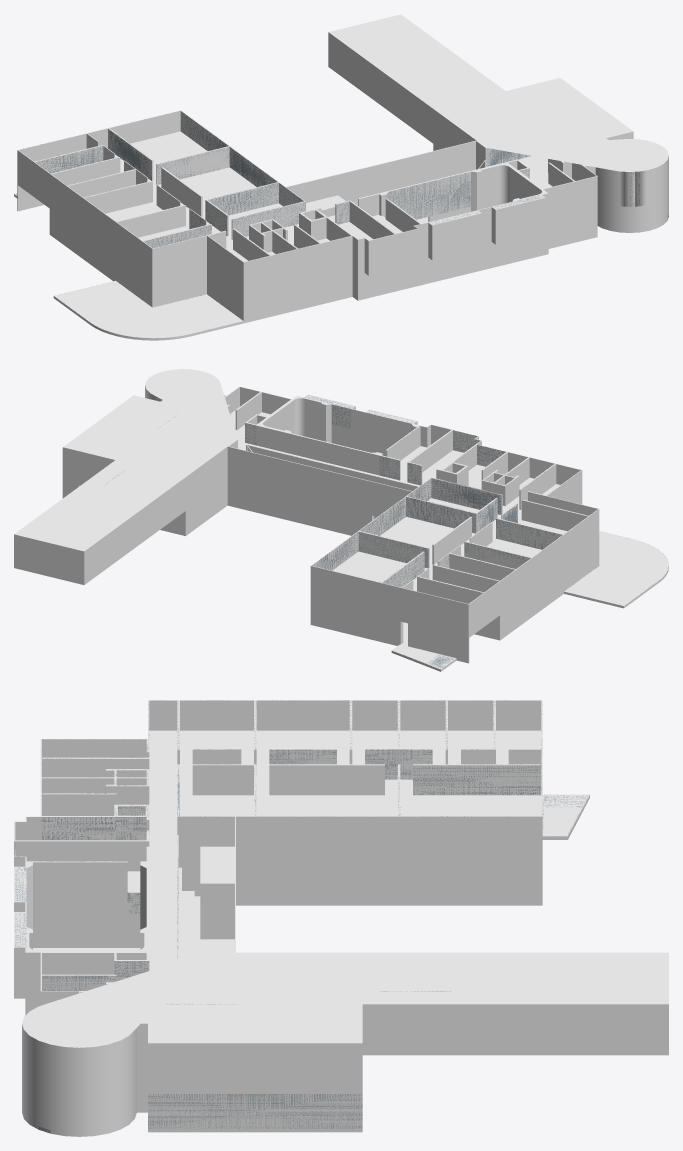
Rendered from Floor.fbx.
The picture shows the model from 3 angles, top to bottom: view 1: azimuth 30°, elevation 25°; view 2: azimuth 150°, elevation 25°; view 3: azimuth 270°, elevation 25°; orthographic projection. The views are drawn at different scales.
Parts seen in each view (by area): view 1: Group1, Group2; view 2: Group1, Group2; view 3: Group1, Group2.
Boxes of the visible parts, box(x1,y1,x2,y2) form: Group1: box(17, 14, 668, 297); Group2: box(14, 140, 668, 340); Group1: box(14, 369, 599, 637); Group2: box(62, 396, 668, 671); Group1: box(14, 700, 668, 1098); Group2: box(22, 794, 589, 1136).
Bounding box in the file's own units: 72659 × 7700 × 51300.
